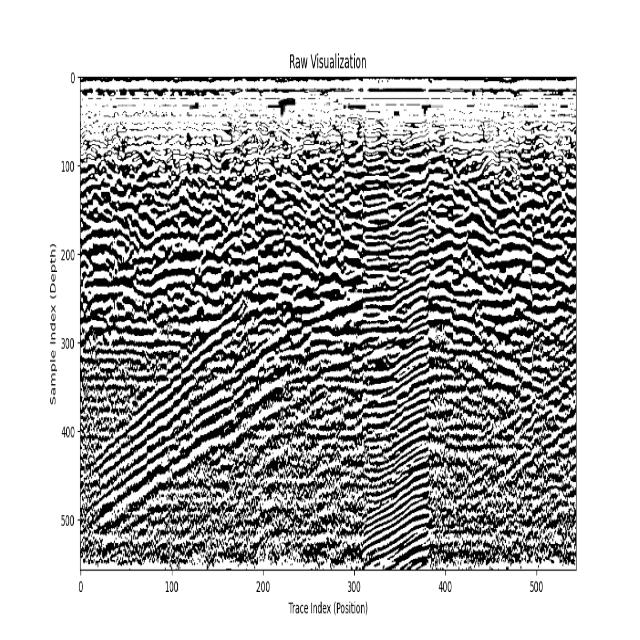anomaly: (83, 241, 333, 550), (361, 150, 434, 567)
